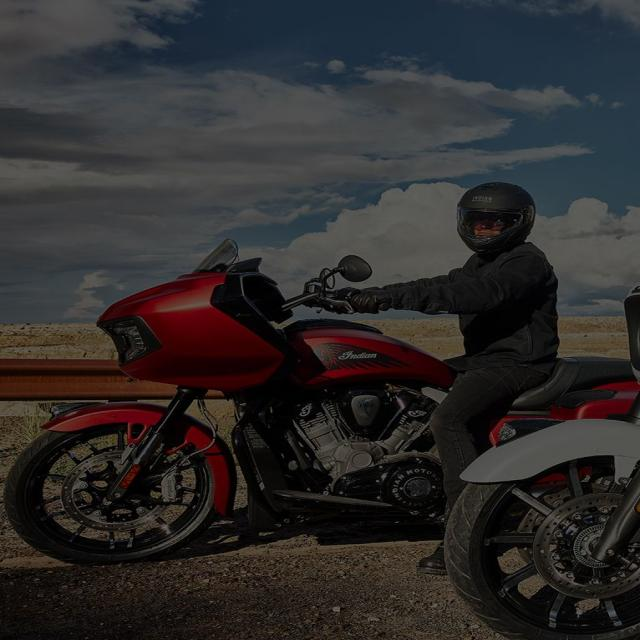motorcycle: (5, 182, 630, 563)
